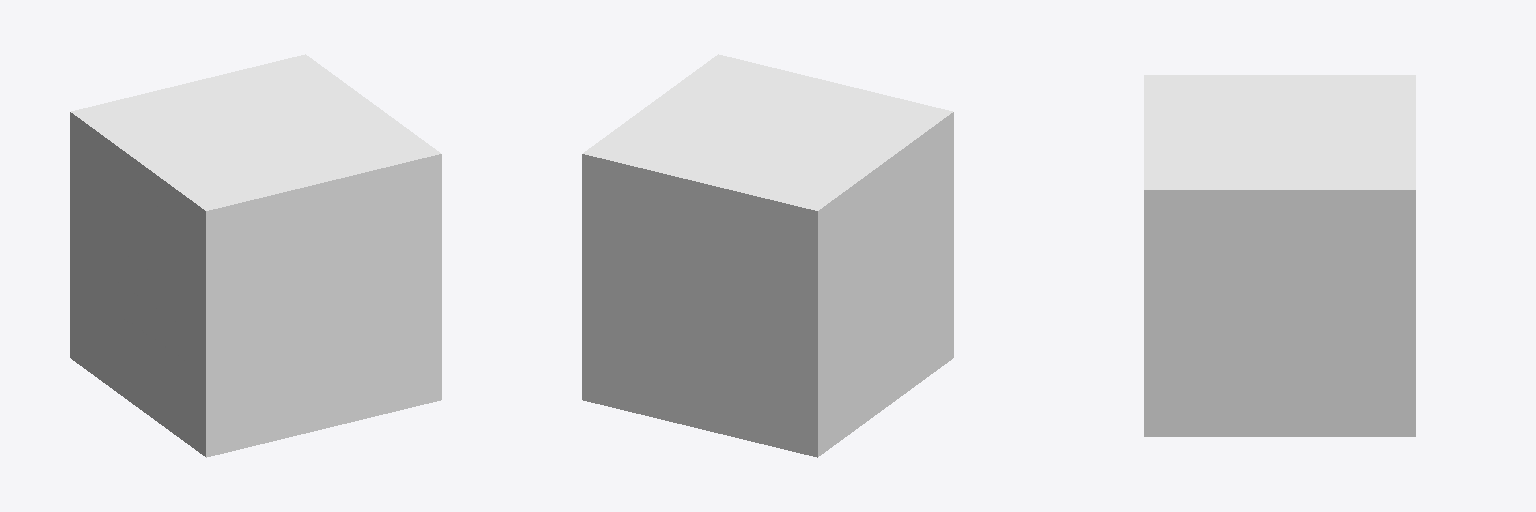
Rendered from fireroom.obj.
3 views of the same model, side by side, from view 1: azimuth 30°, elevation 25°; view 2: azimuth 150°, elevation 25°; view 3: azimuth 270°, elevation 25° (orthographic).
Parts seen in each view (by area): view 1: object 1; view 2: object 1; view 3: object 1.
Part boxes in pixels (bbox=[...]): object 1: bbox=[70, 54, 441, 457]; object 1: bbox=[582, 54, 953, 457]; object 1: bbox=[1144, 75, 1415, 436].
Bounding box in the file's own units: 6 × 6 × 6.